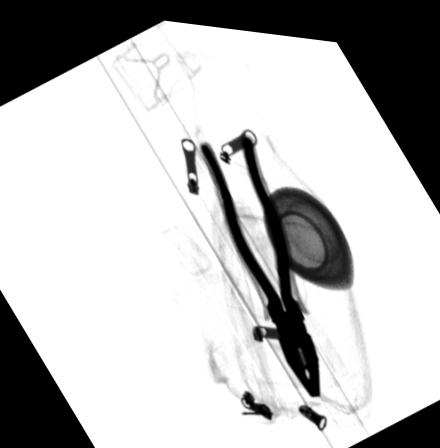Pliers: (196, 125, 320, 390)
